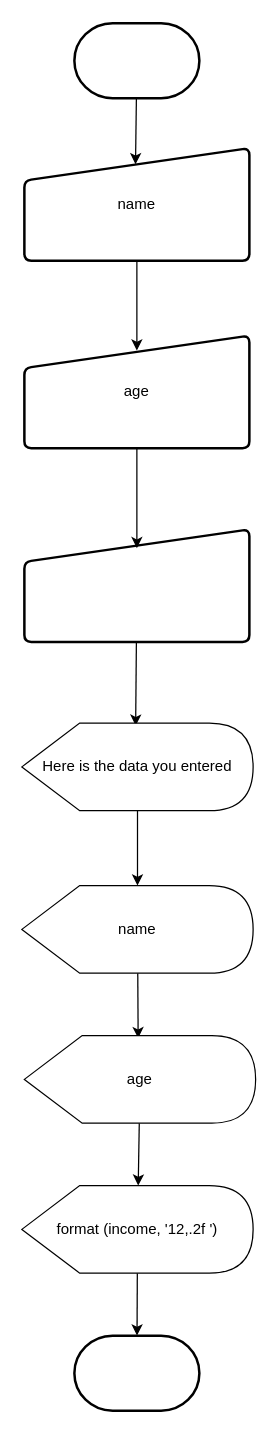
Some shapes in this 278 by 1433 pixel diagram are drawn without their labels. The centre of each missing label's shape, as x and y in pixels:
end: pixel 136 1372
income: pixel 136 585
Satrt: pixel 136 60
